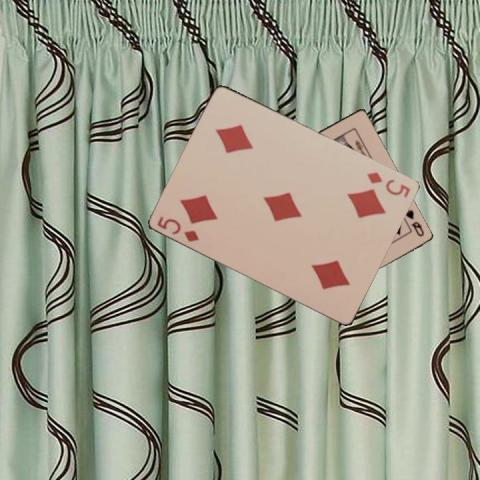5d: (364, 169, 412, 200), (155, 213, 201, 243)
Qs: (402, 207, 425, 238)
